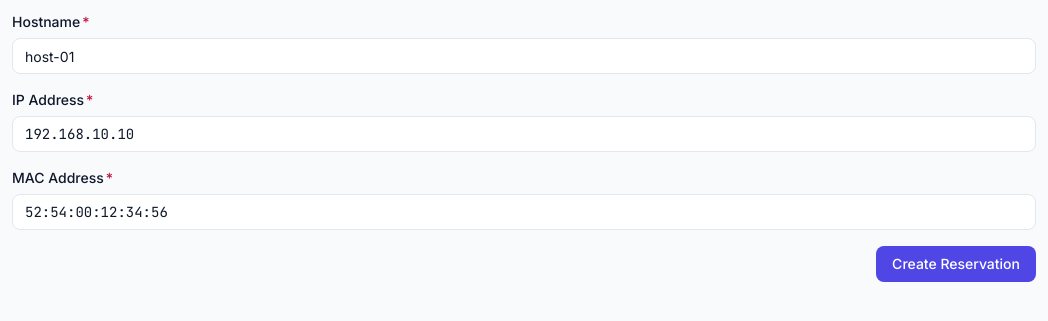
Test case: Forms — react-hook-form + zod validation › DHCPReservationForm blocks submit and shows an error for an invalid MAC address
The width and height of the screenshot is (1048, 321).
Replace the text in the field labelled "MAC Address" with "zz:zz:zz:zz:zz:zz" at (524, 212), box 12,194 -> 1036,230
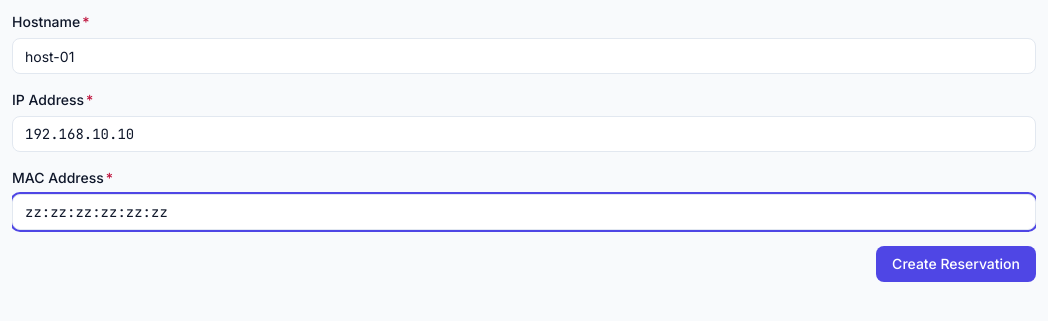
Click the button "Create Reservation" at (956, 264), box 876,246 -> 1036,282
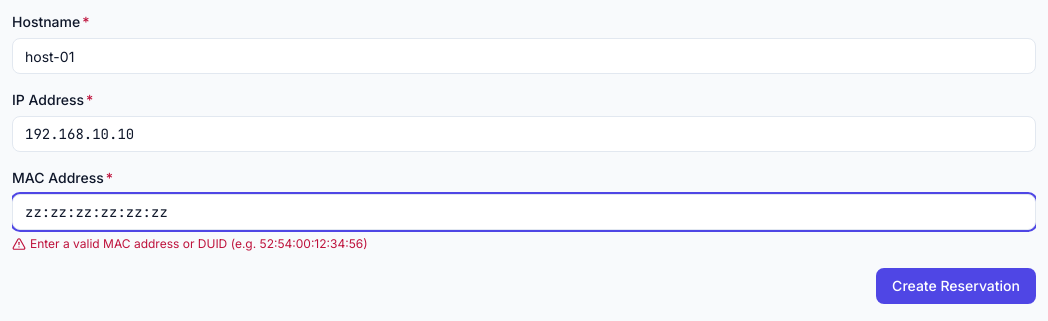
Expected: the text "Enter a valid MAC address or DUID (e.g. 52:54:00:12:34:56)" is shown, 12,236 -> 368,251
